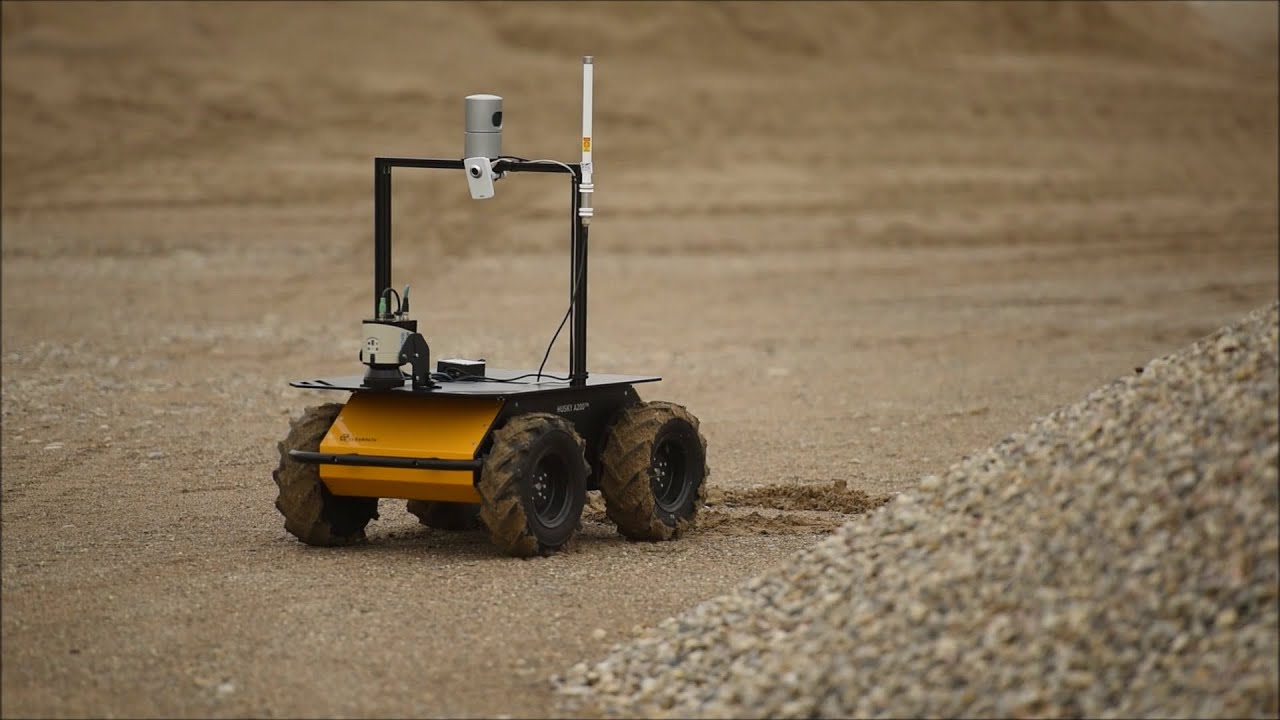husky: (271, 370, 710, 561)
